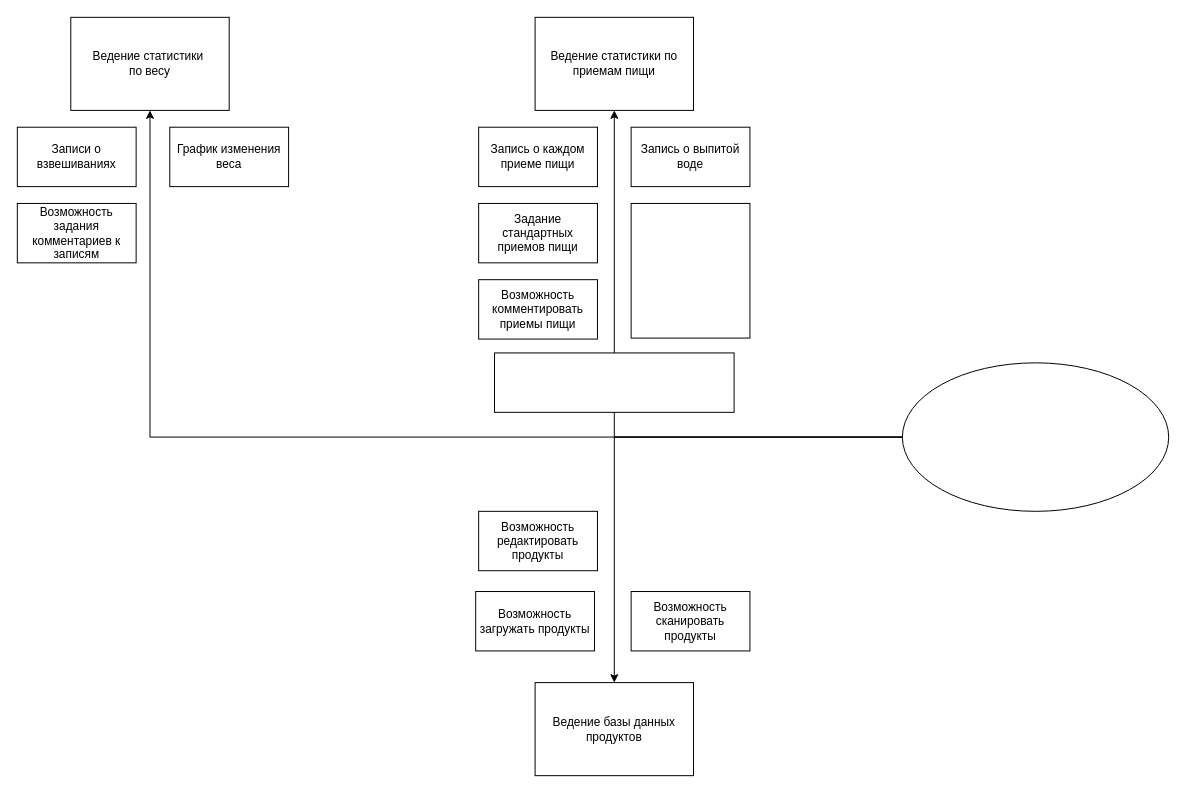
This 1186x793 diagram has some shape labels left out. Here are the shapes that lost their labels. From the top down, the box of each, then its label:
(630, 202, 750, 338): Задание вариантов минимальных и максимальных лимитов для каждого дня и в общем
(494, 352, 734, 412): Возможность изменить прием пищи под конкретную ситуацию без изменения шаблона
(901, 362, 1169, 511): Система для слежения за здоровьем
